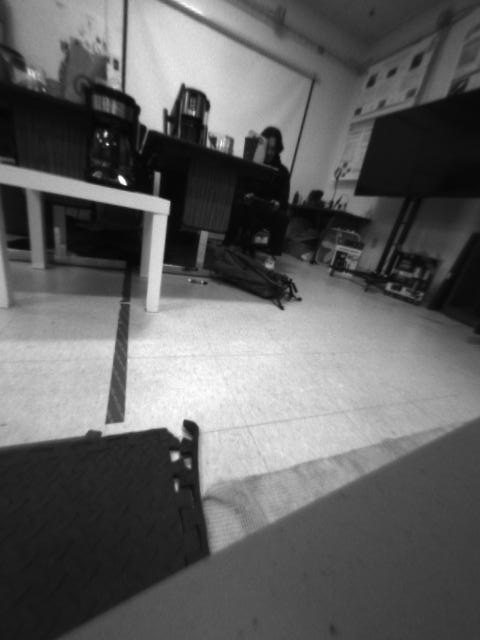coffee_pot: (72, 77, 144, 196)
